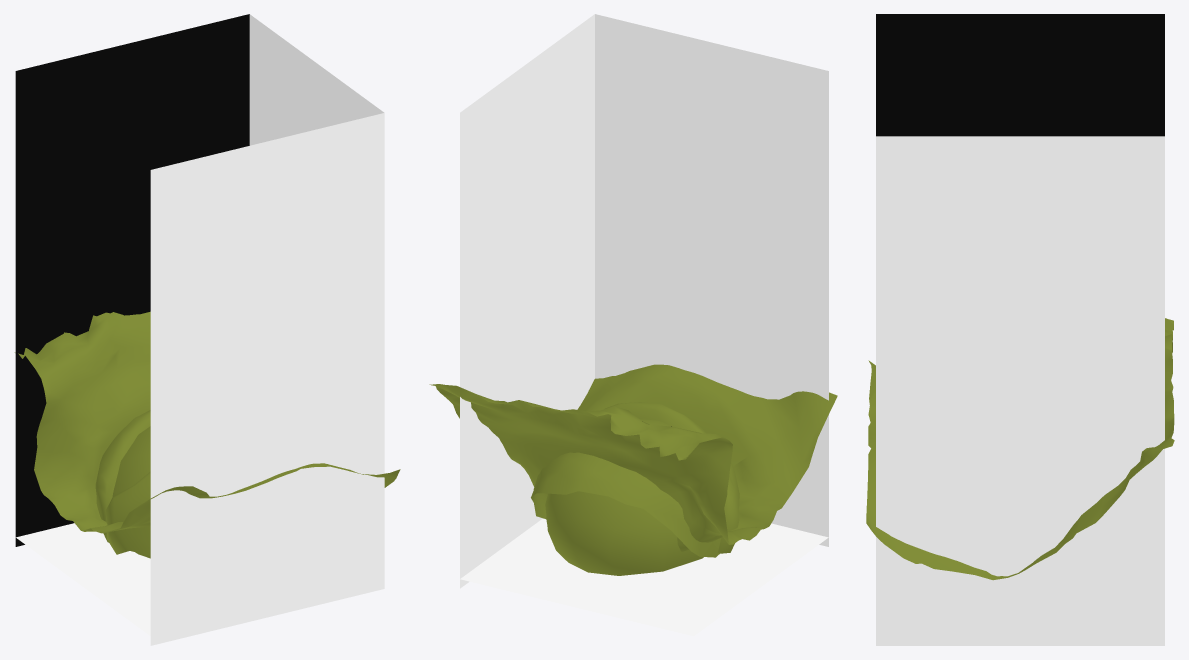
Rendered from eye_02.glb.
The picture shows the model from 3 angles, left to right: view 1: azimuth 30°, elevation 25°; view 2: azimuth 150°, elevation 25°; view 3: azimuth 270°, elevation 25°; orthographic projection. The views are drawn at different scales.
Parts seen in each view (by area): view 1: walls_01, walls_02, socket, container, Upper Lid, Lower Lid, eye; view 2: walls_01, socket, container, eye, Lower Lid, Upper Lid; view 3: walls_01, walls_02, socket.
Boxes of the visible parts, x1,y1,x2,y2 form: walls_01: (150, 14, 384, 645); walls_02: (15, 14, 249, 546); socket: (14, 311, 400, 533); container: (16, 523, 150, 635); Upper Lid: (106, 471, 150, 556); Lower Lid: (95, 410, 150, 542); eye: (112, 426, 150, 558); walls_01: (460, 14, 828, 588); socket: (429, 364, 837, 551); container: (460, 518, 828, 636); eye: (545, 418, 703, 575); Lower Lid: (531, 452, 721, 557); Upper Lid: (546, 402, 739, 553); walls_01: (876, 136, 1164, 645); walls_02: (876, 14, 1164, 136); socket: (866, 318, 1174, 580).
Bounding box in the file's own units: 11.21 × 18.96 × 10.4.
